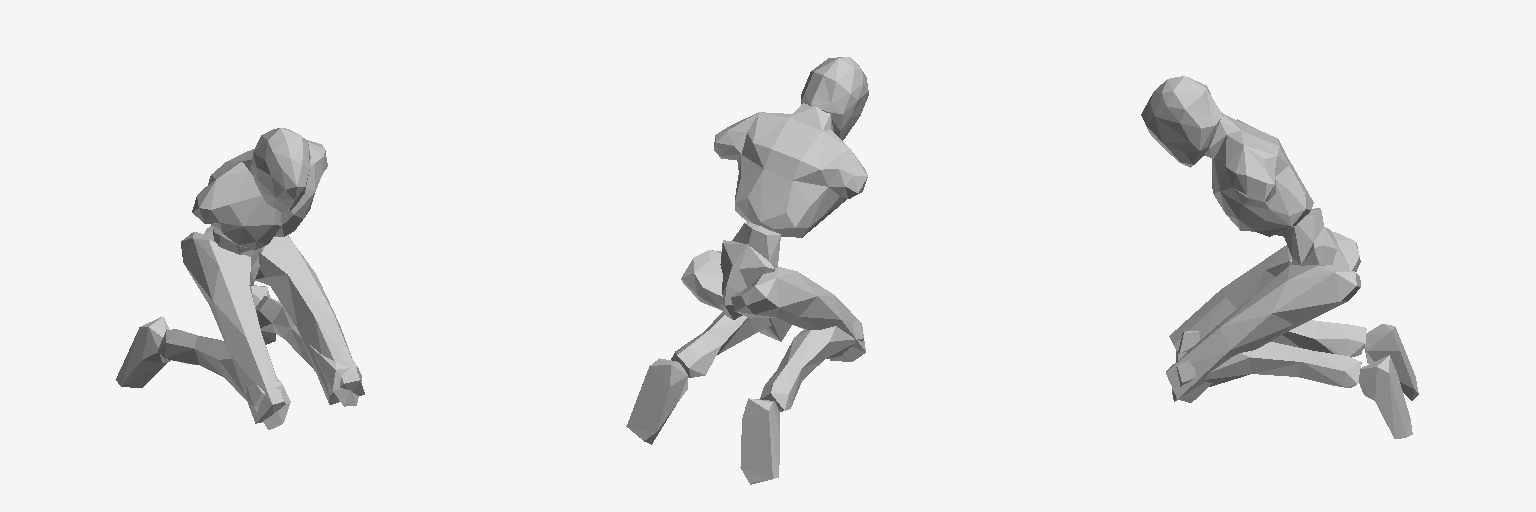
File: filth51.obj
3 views of the same model, side by side, from view 1: azimuth 30°, elevation 25°; view 2: azimuth 150°, elevation 25°; view 3: azimuth 270°, elevation 25° (orthographic).
Parts seen in each view (by area): view 1: Melee_Husk; view 2: Melee_Husk; view 3: Melee_Husk.
Part boxes in pixels (left/top/right/bottom): Melee_Husk: left=116, top=128, right=364, bottom=429; Melee_Husk: left=626, top=57, right=868, bottom=484; Melee_Husk: left=1141, top=76, right=1418, bottom=438.
Bounding box in the file's own units: 22.93 × 47.21 × 35.23.